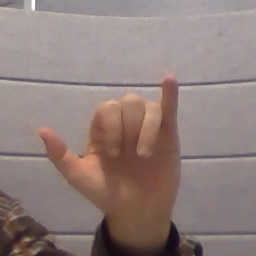Y: (34, 70, 192, 214)
